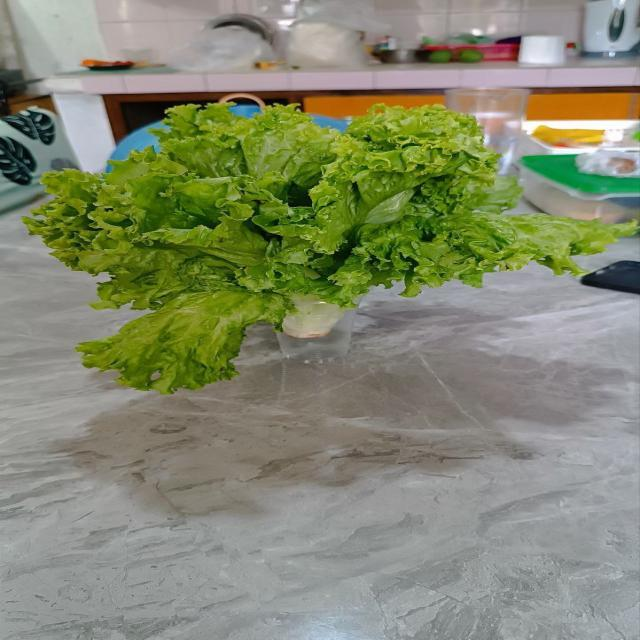Lettuce-Ready-to-Harvest: (22, 96, 622, 396)
